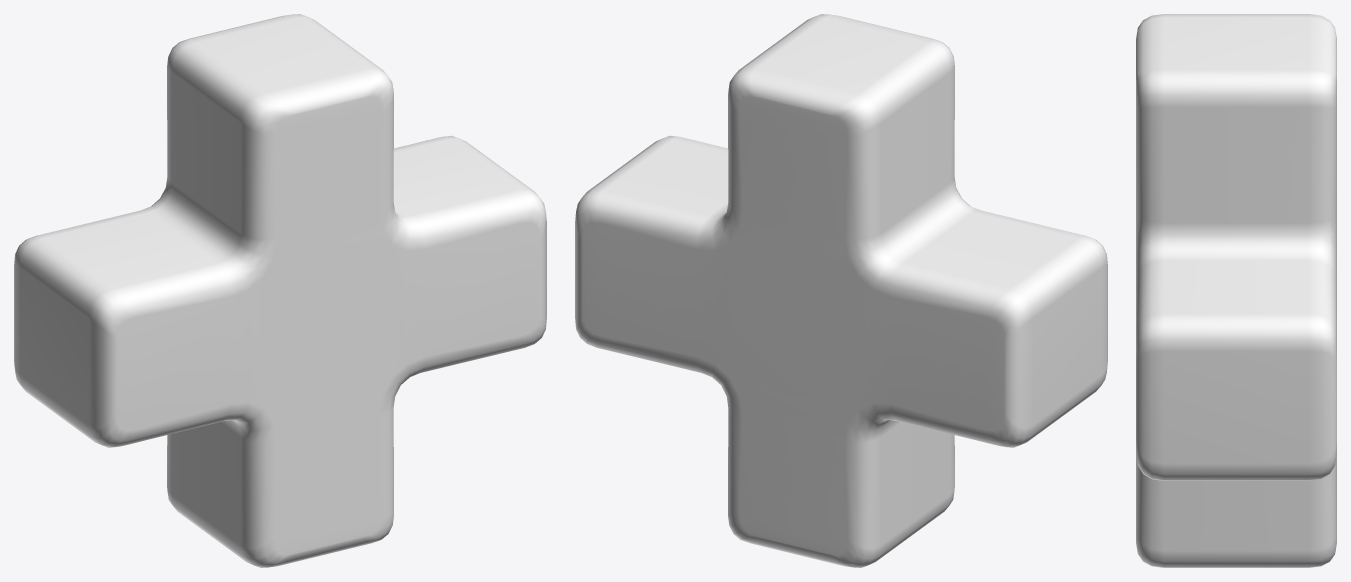
Rendered from plus.fbx.
3 views of the same model, side by side, from view 1: azimuth 30°, elevation 25°; view 2: azimuth 150°, elevation 25°; view 3: azimuth 270°, elevation 25° (orthographic). The views are drawn at different scales.
Parts seen in each view (by area): view 1: node_id40; view 2: node_id40; view 3: node_id40.
Boxes of the visible parts, left/top/right/bottom form: node_id40: left=14, top=14, right=546, bottom=567; node_id40: left=575, top=14, right=1107, bottom=567; node_id40: left=1136, top=14, right=1336, bottom=567.
Bounding box in the file's own units: 0.512 × 0.5099 × 0.1877.
Materials: 1 (1 with a texture image).
